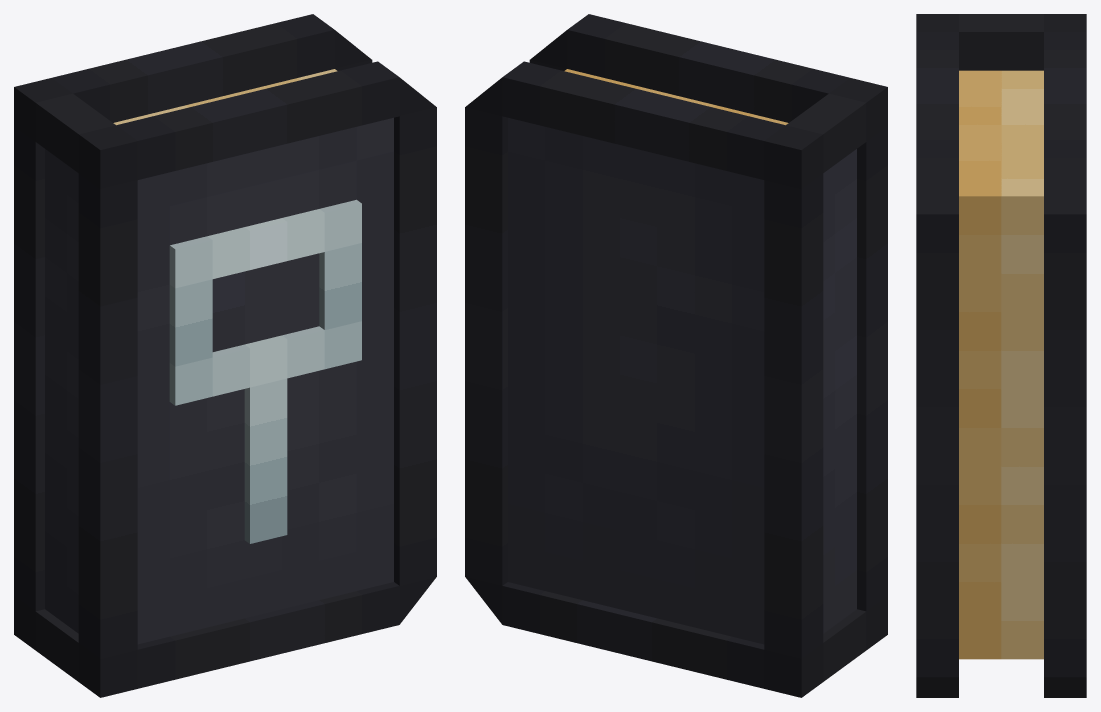
The model's file is bookofmarks_closed.obj.
The picture shows the model from 3 angles, left to right: view 1: azimuth 30°, elevation 25°; view 2: azimuth 150°, elevation 25°; view 3: azimuth 270°, elevation 25°; orthographic projection.
Visible parts, largest first — view 1: COVER_FRONT_EXTVAR1_CLOSED_Cube.031, SPINE_EXTVAR1_CLOSED_Cube.033, COVER_BACK_EXTVAR1_CLOSED_Cube.030, COVERDECO_EXTVAR1_CLOSED_Cube.032, PAGES_EXTVAR1_BACK_CLOSED_Cube.026; view 2: COVER_BACK_EXTVAR1_CLOSED_Cube.030, COVER_FRONT_EXTVAR1_CLOSED_Cube.031, SPINE_EXTVAR1_CLOSED_Cube.033, PAGES_EXTVAR1_FRONT_CLOSED.002_Cube.029; view 3: COVER_BACK_EXTVAR1_CLOSED_Cube.030, COVER_FRONT_EXTVAR1_CLOSED_Cube.031, PAGES_EXTVAR1_BACK_CLOSED_Cube.026, PAGES_EXTVAR1_FRONT_CLOSED.002_Cube.029, SPINE_EXTVAR1_CLOSED_Cube.033.
Boxes of the visible parts, <box> form: COVER_FRONT_EXTVAR1_CLOSED_Cube.031: <box>78,61,436,697</box>; SPINE_EXTVAR1_CLOSED_Cube.033: <box>35,93,137,681</box>; COVER_BACK_EXTVAR1_CLOSED_Cube.030: <box>14,14,372,650</box>; COVERDECO_EXTVAR1_CLOSED_Cube.032: <box>169,199,361,543</box>; PAGES_EXTVAR1_BACK_CLOSED_Cube.026: <box>113,69,337,125</box>; COVER_BACK_EXTVAR1_CLOSED_Cube.030: <box>465,61,823,697</box>; COVER_FRONT_EXTVAR1_CLOSED_Cube.031: <box>529,14,887,650</box>; SPINE_EXTVAR1_CLOSED_Cube.033: <box>786,93,887,681</box>; PAGES_EXTVAR1_FRONT_CLOSED.002_Cube.029: <box>564,69,788,125</box>; COVER_BACK_EXTVAR1_CLOSED_Cube.030: <box>1044,14,1086,697</box>; COVER_FRONT_EXTVAR1_CLOSED_Cube.031: <box>916,14,958,697</box>; PAGES_EXTVAR1_BACK_CLOSED_Cube.026: <box>1001,70,1043,659</box>; PAGES_EXTVAR1_FRONT_CLOSED.002_Cube.029: <box>959,70,1001,659</box>; SPINE_EXTVAR1_CLOSED_Cube.033: <box>959,14,1043,70</box>.
Bounding box in the file's own units: 0.5625 × 0.875 × 0.25.
